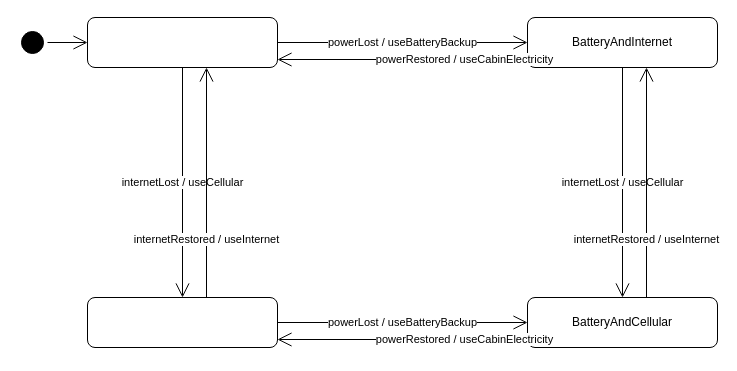
The diagram is 737 pixels wide and 371 high, and some of its shapes have lost their labels. The shapes that lost their labels are listed below. From the top down, each one's centre as x and y in pixels, then its label:
At point (182, 42): "ElectricityAndInternet".
At point (182, 322): "ElectricityAndCellular".
